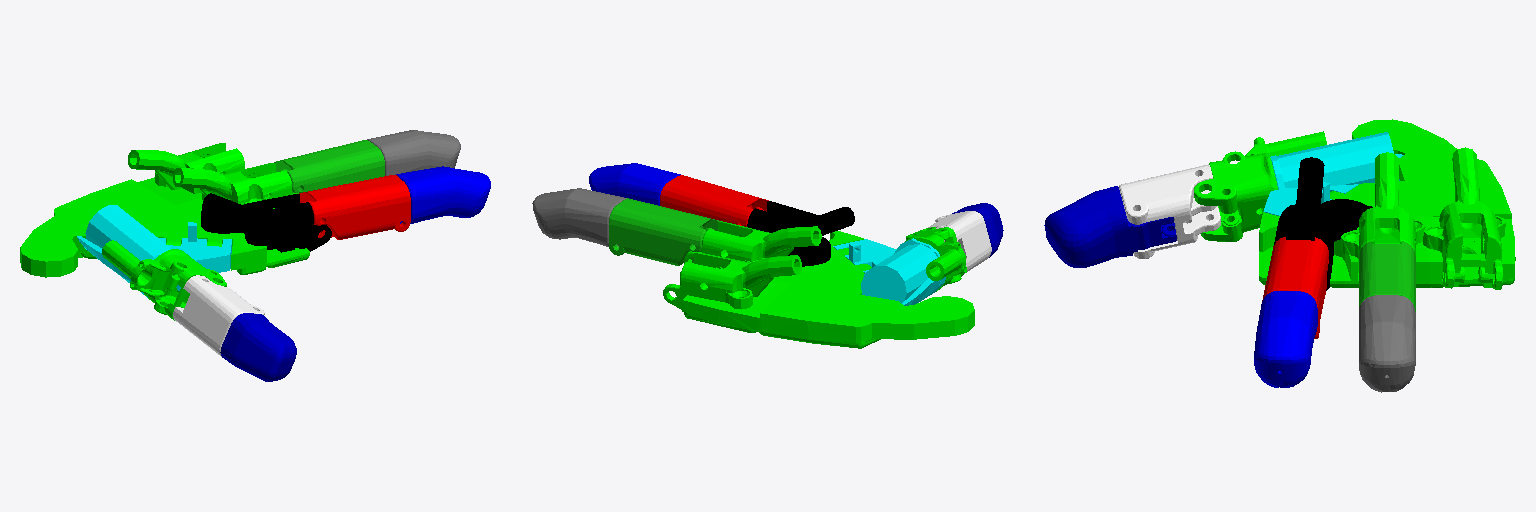
robot.urdf — SIM_LEFT_HAND:
<robot name="SIM_LEFT_HAND">
  <link name="l_hand_palm_link">
    <inertial>
      <origin xyz="-0.0278032 0.00764863 0.0027950400000000004" rpy="0 0 0"/>
      <mass value="0.100139"/>
      <inertia ixx="0.01" ixy="2.94756e-06" ixz="-1.5326e-06" iyy="0.01" iyz="-6.15953e-07" izz="0.01"/>
    </inertial>
    <visual>
      <origin xyz="0 0 0" rpy="0 0 0"/>
      <geometry>
        <mesh filename="package://iCub/meshes/simmechanics/sim_l_hand_palm_naked_prt.stl" scale="0.001 0.001 0.001"/>
      </geometry>
      <material name="green">
        <color rgba="0 1 0 1"/>
      </material>
    </visual>
    <collision>
      <origin xyz="0 0 0" rpy="0 0 0"/>
      <geometry>
        <mesh filename="package://iCub/meshes/simmechanics/sim_l_hand_palm_naked_prt.stl" scale="0.001 0.001 0.001"/>
      </geometry>
    </collision>
  </link>
  <link name="l_hand_index_proximal_link">
    <inertial>
      <origin xyz="0.012172107129987671 0.0067511216637091715 -0.0021994200000000005" rpy="0 0 0"/>
      <mass value="0.010775"/>
      <inertia ixx="0.01" ixy="-3.20758e-07" ixz="-2.34042e-07" iyy="0.01" iyz="1.2798e-08" izz="0.01"/>
    </inertial>
    <visual>
      <origin xyz="0.005713421930986794 0.009192523067064836 0.006999999999999998" rpy="0 0 0"/>
      <geometry>
        <mesh filename="package://iCub/meshes/simmechanics/sim_l_hand_metacarpus_index_prt.stl" scale="0.001 0.001 0.001"/>
      </geometry>
      <material name="black">
        <color rgba="0 0 0 1"/>
      </material>
    </visual>
    <collision>
      <origin xyz="0.005713421930986794 0.009192523067064836 0.006999999999999998" rpy="0 0 0"/>
      <geometry>
        <mesh filename="package://iCub/meshes/simmechanics/sim_l_hand_metacarpus_index_prt.stl" scale="0.001 0.001 0.001"/>
      </geometry>
    </collision>
  </link>
  <joint name="l_hand_index_adduction_joint" type="revolute">
    <origin xyz="-0.0196675 -0.0127212 0.006" rpy="3.141592653589793 0 -0.08726640667046762"/>
    <axis xyz="0.0 0.0 0.9999999999999998"/>
    <parent link="l_hand_palm_link"/>
    <child link="l_hand_index_proximal_link"/>
    <limit effort="50000" lower="0.0" upper="0.17453292519943295" velocity="50000"/>
    <dynamics damping="1.0"/>
  </joint>
  <link name="l_hand_index_medial_link">
    <inertial>
      <origin xyz="0.014692614581719034 0 -0.004197619999999999" rpy="0 0 0"/>
      <mass value="0.0132526"/>
      <inertia ixx="0.01" ixy="0.0" ixz="-1.03507e-08" iyy="0.01" iyz="0.0" izz="0.01"/>
    </inertial>
    <visual>
      <origin xyz="-0.003250012270626084 0 0.004499999999999999" rpy="0 0 0"/>
      <geometry>
        <mesh filename="package://iCub/meshes/simmechanics/sim_l_hand_prox_index_finger_prt.stl" scale="0.001 0.001 0.001"/>
      </geometry>
      <material name="red">
        <color rgba="1 0 0 1"/>
      </material>
    </visual>
    <collision>
      <origin xyz="-0.003250012270626084 0 0.004499999999999999" rpy="0 0 0"/>
      <geometry>
        <mesh filename="package://iCub/meshes/simmechanics/sim_l_hand_prox_index_finger_prt.stl" scale="0.001 0.001 0.001"/>
      </geometry>
    </collision>
  </link>
  <joint name="l_hand_index_proximal_joint" type="revolute">
    <origin xyz="0.030713454915364542 0.009192528035413853 0.002499999999999999" rpy="0 0 0"/>
    <axis xyz="-1.2968763118959004e-08 -1.0000002970337007 0.0"/>
    <parent link="l_hand_index_proximal_link"/>
    <child link="l_hand_index_medial_link"/>
    <limit effort="50000" lower="0.0" upper="1.6580627893946132" velocity="50000"/>
    <dynamics damping="1.0"/>
  </joint>
  <link name="l_hand_index_fingertip_link">
    <inertial>
      <origin xyz="0.013719205060423664 0 -0.0044794399999999995" rpy="0 0 0"/>
      <mass value="0.0137754"/>
      <inertia ixx="0.01" ixy="0.0" ixz="-3.80288e-08" iyy="0.01" iyz="0.0" izz="0.01"/>
    </inertial>
    <visual>
      <origin xyz="-0.0030000187014437435 0 0.002999999999999999" rpy="0 0 0"/>
      <geometry>
        <mesh filename="package://iCub/meshes/simmechanics/sim_l_hand_distal_index_finger_prt.stl" scale="0.001 0.001 0.001"/>
      </geometry>
      <material name="blue">
        <color rgba="0 0 1 1"/>
      </material>
    </visual>
    <collision>
      <origin xyz="-0.0030000187014437435 0 0.002999999999999999" rpy="0 0 0"/>
      <geometry>
        <mesh filename="package://iCub/meshes/simmechanics/sim_l_hand_distal_index_finger_prt.stl" scale="0.001 0.001 0.001"/>
      </geometry>
    </collision>
  </link>
  <joint name="l_hand_index_distal_joint" type="revolute">
    <origin xyz="0.0299999616287908 0 0.0014999999999999996" rpy="0 0 0"/>
    <axis xyz="-1.2968763118959004e-08 -1.0000002970337007 0.0"/>
    <parent link="l_hand_index_medial_link"/>
    <child link="l_hand_index_fingertip_link"/>
    <limit effort="50000" lower="0.0" upper="1.837831702350029" velocity="50000"/>
    <dynamics damping="1.0"/>
  </joint>
  <link name="l_hand_pinky_medial_link">
    <inertial>
      <origin xyz="0.01469267278579065 0.008000003136943656 -0.004197623188803215" rpy="0 0 0"/>
      <mass value="0.0132526"/>
      <inertia ixx="0.01" ixy="0.0" ixz="-1.03507e-08" iyy="0.01" iyz="0.0" izz="0.01"/>
    </inertial>
    <visual>
      <origin xyz="-0.003250002030506476 0.007999989759661787 0.0045000028011113824" rpy="0 0 0"/>
      <geometry>
        <mesh filename="package://iCub/meshes/simmechanics/sim_l_hand_prox_little_finger_prt.stl" scale="0.001 0.001 0.001"/>
      </geometry>
      <material name="yellow">
        <color rgba="1 1 0 1"/>
      </material>
    </visual>
    <collision>
      <origin xyz="-0.003250002030506476 0.007999989759661787 0.0045000028011113824" rpy="0 0 0"/>
      <geometry>
        <mesh filename="package://iCub/meshes/simmechanics/sim_l_hand_prox_little_finger_prt.stl" scale="0.001 0.001 0.001"/>
      </geometry>
    </collision>
  </link>
  <joint name="l_hand_pinky_proximal_joint" type="revolute">
    <origin xyz="0.00924221 0.0323841 0.00310435" rpy="3.071779488995382 0 0.0872664183029469"/>
    <axis xyz="-1.0351589968090255e-08 -0.9999999809599038 3.313676352756367e-08"/>
    <parent link="l_hand_palm_link"/>
    <child link="l_hand_pinky_medial_link"/>
    <limit effort="50000" lower="0.0" upper="1.6580627893946132" velocity="50000"/>
    <dynamics damping="1.0"/>
  </joint>
  <link name="l_hand_pinky_fingertip_link">
    <inertial>
      <origin xyz="0.013719240146803653 0 -0.004479442286172338" rpy="0 0 0"/>
      <mass value="0.0137754"/>
      <inertia ixx="0.01" ixy="0.0" ixz="-3.80288e-08" iyy="0.01" iyz="0.0" izz="0.01"/>
    </inertial>
    <visual>
      <origin xyz="-0.002999951594893295 0 0.002999995327181709" rpy="0 0 0"/>
      <geometry>
        <mesh filename="package://iCub/meshes/simmechanics/sim_l_hand_distal_little_finger_prt.stl" scale="0.001 0.001 0.001"/>
      </geometry>
      <material name="pink">
        <color rgba="1 0 1 1"/>
      </material>
    </visual>
    <collision>
      <origin xyz="-0.002999951594893295 0 0.002999995327181709" rpy="0 0 0"/>
      <geometry>
        <mesh filename="package://iCub/meshes/simmechanics/sim_l_hand_distal_little_finger_prt.stl" scale="0.001 0.001 0.001"/>
      </geometry>
    </collision>
  </link>
  <joint name="l_hand_pinky_distal_joint" type="revolute">
    <origin xyz="0.029999983211558306 0.007999988365394325 0.0015000049599501373" rpy="0 0 0"/>
    <axis xyz="-1.0351589968090255e-08 -0.9999999809599038 3.313676352756367e-08"/>
    <parent link="l_hand_pinky_medial_link"/>
    <child link="l_hand_pinky_fingertip_link"/>
    <limit effort="50000" lower="0.0" upper="1.837831702350029" velocity="50000"/>
    <dynamics damping="1.0"/>
  </joint>
  <link name="l_hand_metacarpus_link">
    <inertial>
      <origin xyz="0.0413926 -0.035191799999999995 0.00141728" rpy="0 0 0"/>
      <mass value="0.0302711"/>
      <inertia ixx="0.01" ixy="1.11095e-06" ixz="1.55542e-07" iyy="0.01" iyz="-4.24412e-07" izz="0.01"/>
    </inertial>
    <visual>
      <origin xyz="0.09315509999999994 -0.018762900000000145 -0.0029999999999999953" rpy="0 0 0"/>
      <geometry>
        <mesh filename="package://iCub/meshes/simmechanics/sim_l_hand_palm_adduction_prt.stl" scale="0.001 0.001 0.001"/>
      </geometry>
      <material name="cyan">
        <color rgba="0 1 1 1"/>
      </material>
    </visual>
    <collision>
      <origin xyz="0.09315509999999994 -0.018762900000000145 -0.0029999999999999953" rpy="0 0 0"/>
      <geometry>
        <mesh filename="package://iCub/meshes/simmechanics/sim_l_hand_palm_adduction_prt.stl" scale="0.001 0.001 0.001"/>
      </geometry>
    </collision>
  </link>
  <joint name="l_hand_metacarpus_joint" type="revolute">
    <origin xyz="-0.0931551 0.0187629 0.003" rpy="0 0 0"/>
    <axis xyz="0.838671 -0.544639 0.0"/>
    <parent link="l_hand_palm_link"/>
    <child link="l_hand_metacarpus_link"/>
    <limit effort="50000" lower="0.0" upper="1.3962634015954636" velocity="50000"/>
    <dynamics damping="1.0"/>
  </joint>
  <link name="l_hand_thumb_proximal_link">
    <inertial>
      <origin xyz="0.007942237973736326 -5.9058138708734456e-05 -0.001045447354816556" rpy="0 0 0"/>
      <mass value="0.00972892"/>
      <inertia ixx="7.30894e-07" ixy="-1.72738e-09" ixz="-2.79201e-07" iyy="1.01435e-06" iyz="6.0045e-10" izz="8.85583e-07"/>
    </inertial>
    <visual>
      <origin xyz="0.002000001152487 0 0.008000024128725032" rpy="0 0 0"/>
      <geometry>
        <mesh filename="package://iCub/meshes/simmechanics/sim_l_hand_metacarpus_thumb_prt.stl" scale="0.001 0.001 0.001"/>
      </geometry>
      <material name="green">
        <color rgba="0 1 0 1"/>
      </material>
    </visual>
    <collision>
      <origin xyz="0.002000001152487 0 0.008000024128725032" rpy="0 0 0"/>
      <geometry>
        <mesh filename="package://iCub/meshes/simmechanics/sim_l_hand_metacarpus_thumb_prt.stl" scale="0.001 0.001 0.001"/>
      </geometry>
    </collision>
  </link>
  <joint name="l_hand_thumb_rotation_joint" type="revolute">
    <origin xyz="0.04079150000000001 -0.048141699999999996 -4.558000000000036e-05" rpy="-1.9198619241239645 0.17453290528623008 -1.4311699319115785"/>
    <axis xyz="1.0000003237804127 -2.554693537271113e-07 6.571824259088421e-08"/>
    <parent link="l_hand_metacarpus_link"/>
    <child link="l_hand_thumb_proximal_link"/>
    <limit effort="50000" lower="-1.2217304763960306" upper="0.0" velocity="50000"/>
    <dynamics damping="1.0"/>
  </joint>
  <link name="l_hand_thumb_medial_link">
    <inertial>
      <origin xyz="0.009644287345556363 1.4222829970995943e-05 -0.0047316267826139" rpy="0 0 0"/>
      <mass value="0.00963921"/>
      <inertia ixx="0.01" ixy="1.25397e-09" ixz="-1.8712e-08" iyy="0.01" iyz="2.42496e-10" izz="0.01"/>
    </inertial>
    <visual>
      <origin xyz="-0.0029999603842260775 0 0.004499998155619252" rpy="0 0 0"/>
      <geometry>
        <mesh filename="package://iCub/meshes/simmechanics/sim_l_hand_proximal_thumb_prt.stl" scale="0.001 0.001 0.001"/>
      </geometry>
      <material name="white">
        <color rgba="1 1 1 1"/>
      </material>
    </visual>
    <collision>
      <origin xyz="-0.0029999603842260775 0 0.004499998155619252" rpy="0 0 0"/>
      <geometry>
        <mesh filename="package://iCub/meshes/simmechanics/sim_l_hand_proximal_thumb_prt.stl" scale="0.001 0.001 0.001"/>
      </geometry>
    </collision>
  </link>
  <joint name="l_hand_thumb_proximal_joint" type="revolute">
    <origin xyz="0.021999958515447667 0 0.003500025233931968" rpy="0 0 0"/>
    <axis xyz="2.628557915773655e-08 -1.0000002854169352 -2.1835508223766453e-07"/>
    <parent link="l_hand_thumb_proximal_link"/>
    <child link="l_hand_thumb_medial_link"/>
    <limit effort="50000" lower="0.0" upper="1.4835298641951802" velocity="50000"/>
    <dynamics damping="1.0"/>
  </joint>
  <link name="l_hand_thumb_fingertip_link">
    <inertial>
      <origin xyz="0.010517869126825605 8.912381595133773e-06 -0.003989284736807201" rpy="0 0 0"/>
      <mass value="0.0169365"/>
      <inertia ixx="0.01" ixy="1.68813e-09" ixz="-2.86966e-08" iyy="0.01" iyz="-1.92473e-09" izz="0.01"/>
    </inertial>
    <visual>
      <origin xyz="-0.0029999461796957824 0 0.0030000193982093193" rpy="0 0 0"/>
      <geometry>
        <mesh filename="package://iCub/meshes/simmechanics/sim_l_hand_distal_thumb_prt.stl" scale="0.001 0.001 0.001"/>
      </geometry>
      <material name="dblue">
        <color rgba="0 0 0.8 1"/>
      </material>
    </visual>
    <collision>
      <origin xyz="-0.0029999461796957824 0 0.0030000193982093193" rpy="0 0 0"/>
      <geometry>
        <mesh filename="package://iCub/meshes/simmechanics/sim_l_hand_distal_thumb_prt.stl" scale="0.001 0.001 0.001"/>
      </geometry>
    </collision>
  </link>
  <joint name="l_hand_thumb_distal_joint" type="revolute">
    <origin xyz="0.020000016253208942 0 0.001499998093791144" rpy="0 0 0"/>
    <axis xyz="2.628557915773655e-08 -1.0000002854169352 -2.1835508223766453e-07"/>
    <parent link="l_hand_thumb_medial_link"/>
    <child link="l_hand_thumb_fingertip_link"/>
    <limit effort="50000" lower="0.0" upper="0.9599310885968813" velocity="50000"/>
    <dynamics damping="1.0"/>
  </joint>
  <link name="l_hand_medium_medial_link">
    <inertial>
      <origin xyz="0.0146927 0.007999999999999997 -0.004197619999999999" rpy="0 0 0"/>
      <mass value="0.0132526"/>
      <inertia ixx="0.01" ixy="0.0" ixz="-1.03507e-08" iyy="0.01" iyz="0.0" izz="0.01"/>
    </inertial>
    <visual>
      <origin xyz="-0.0032499999999999994 0.007999999999999997 0.004499999999999999" rpy="0 0 0"/>
      <geometry>
        <mesh filename="package://iCub/meshes/simmechanics/sim_l_hand_prox_medium_finger_prt.stl" scale="0.001 0.001 0.001"/>
      </geometry>
      <material name="dgreen">
        <color rgba="0.1 0.8 0.1 1"/>
      </material>
    </visual>
    <collision>
      <origin xyz="-0.0032499999999999994 0.007999999999999997 0.004499999999999999" rpy="0 0 0"/>
      <geometry>
        <mesh filename="package://iCub/meshes/simmechanics/sim_l_hand_prox_medium_finger_prt.stl" scale="0.001 0.001 0.001"/>
      </geometry>
    </collision>
  </link>
  <joint name="l_hand_medium_proximal_joint" type="revolute">
    <origin xyz="0.015 0.008 0.0045000000000000005" rpy="3.141592653589793 0 0"/>
    <axis xyz="0.0 -0.9999999999999996 0.0"/>
    <parent link="l_hand_palm_link"/>
    <child link="l_hand_medium_medial_link"/>
    <limit effort="50000" lower="0.0" upper="1.6580627893946132" velocity="50000"/>
    <dynamics damping="1.0"/>
  </joint>
  <link name="l_hand_medium_fingertip_link">
    <inertial>
      <origin xyz="0.0137192 0 -0.004479439999999998" rpy="0 0 0"/>
      <mass value="0.0137754"/>
      <inertia ixx="0.01" ixy="0.0" ixz="-3.80288e-08" iyy="0.01" iyz="0.0" izz="0.01"/>
    </inertial>
    <visual>
      <origin xyz="-0.0029999999999999957 0 0.0029999999999999988" rpy="0 0 0"/>
      <geometry>
        <mesh filename="package://iCub/meshes/simmechanics/sim_l_hand_distal_medium_finger_prt.stl" scale="0.001 0.001 0.001"/>
      </geometry>
      <material name="gray">
        <color rgba="0.5 0.5 0.5 1"/>
      </material>
    </visual>
    <collision>
      <origin xyz="-0.0029999999999999957 0 0.0029999999999999988" rpy="0 0 0"/>
      <geometry>
        <mesh filename="package://iCub/meshes/simmechanics/sim_l_hand_distal_medium_finger_prt.stl" scale="0.001 0.001 0.001"/>
      </geometry>
    </collision>
  </link>
  <joint name="l_hand_medium_distal_joint" type="revolute">
    <origin xyz="0.03 0.007999999999999997 0.0015" rpy="0 0 0"/>
    <axis xyz="0.0 -0.9999999999999996 0.0"/>
    <parent link="l_hand_medium_medial_link"/>
    <child link="l_hand_medium_fingertip_link"/>
    <limit effort="50000" lower="0.0" upper="1.837831702350029" velocity="50000"/>
    <dynamics damping="1.0"/>
  </joint>
  <gazebo> <plugin name="controlboard_left_hand_phys" filename="libgazebo_yarp_controlboard.so"> <yarpConfigurationFile>model://iCub/conf_left_hand_mk3/left_hand_phys.ini</yarpConfigurationFile> </plugin> <plugin name="controlboard_left_hand" filename="libgazebo_yarp_controlboard.so"> <yarpConfigurationFile>model://iCub/conf_left_hand_mk3/left_hand.ini</yarpConfigurationFile> </plugin> <plugin name="world_interface" filename="libgazebo_yarp_worldinterface.so"> <yarpConfigurationFile>model://iCub/conf_left_hand_mk3/worldInterface.ini</yarpConfigurationFile> </plugin> </gazebo>
  <gazebo>
    <pose>0.0 0.0 0.0 0.0 0.0 0.0</pose>
  </gazebo>
</robot>

--- Render facts (derived) ---
Views: 3 orthographic renders of the robot side by side, from view 1: azimuth 30°, elevation 25°; view 2: azimuth 150°, elevation 25°; view 3: azimuth 270°, elevation 25°.
Model SIM_LEFT_HAND with 12 links and 11 joints (11 revolute), rooted at l_hand_palm_link, posed all joints at 0.
Visible links, largest first — view 1: l_hand_palm_link, l_hand_index_proximal_link, l_hand_index_medial_link, l_hand_metacarpus_link, l_hand_thumb_proximal_link, l_hand_index_fingertip_link, l_hand_medium_medial_link, l_hand_thumb_fingertip_link, l_hand_thumb_medial_link, l_hand_medium_fingertip_link; view 2: l_hand_palm_link, l_hand_medium_medial_link, l_hand_metacarpus_link, l_hand_medium_fingertip_link, l_hand_index_medial_link, l_hand_index_proximal_link, l_hand_index_fingertip_link, l_hand_thumb_proximal_link, l_hand_thumb_medial_link, l_hand_thumb_fingertip_link; view 3: l_hand_palm_link, l_hand_thumb_fingertip_link, l_hand_thumb_proximal_link, l_hand_index_fingertip_link, l_hand_medium_fingertip_link, l_hand_thumb_medial_link, l_hand_metacarpus_link, l_hand_index_proximal_link, l_hand_index_medial_link, l_hand_medium_medial_link.
Link boxes in pixels (x1,y1,x2,y2): l_hand_palm_link: [20, 143, 309, 277]; l_hand_index_proximal_link: [201, 193, 331, 252]; l_hand_index_medial_link: [299, 175, 410, 239]; l_hand_metacarpus_link: [77, 205, 231, 297]; l_hand_thumb_proximal_link: [102, 240, 226, 320]; l_hand_index_fingertip_link: [396, 166, 490, 223]; l_hand_medium_medial_link: [274, 140, 384, 193]; l_hand_thumb_fingertip_link: [220, 313, 296, 381]; l_hand_thumb_medial_link: [173, 275, 264, 356]; l_hand_medium_fingertip_link: [367, 130, 460, 175]; l_hand_palm_link: [663, 221, 974, 348]; l_hand_medium_medial_link: [609, 198, 719, 265]; l_hand_metacarpus_link: [833, 238, 945, 305]; l_hand_medium_fingertip_link: [532, 188, 626, 246]; l_hand_index_medial_link: [660, 175, 768, 226]; l_hand_index_proximal_link: [747, 201, 854, 266]; l_hand_index_fingertip_link: [589, 163, 680, 205]; l_hand_thumb_proximal_link: [905, 227, 966, 291]; l_hand_thumb_medial_link: [928, 211, 991, 273]; l_hand_thumb_fingertip_link: [952, 203, 1003, 257]; l_hand_palm_link: [1259, 119, 1515, 289]; l_hand_thumb_fingertip_link: [1044, 186, 1176, 267]; l_hand_thumb_proximal_link: [1194, 131, 1326, 241]; l_hand_index_fingertip_link: [1254, 291, 1317, 387]; l_hand_medium_fingertip_link: [1359, 295, 1415, 392]; l_hand_thumb_medial_link: [1119, 164, 1220, 258]; l_hand_metacarpus_link: [1263, 132, 1403, 215]; l_hand_index_proximal_link: [1274, 157, 1372, 290]; l_hand_index_medial_link: [1262, 237, 1328, 338]; l_hand_medium_medial_link: [1359, 241, 1415, 311].
Bounding box of the posed robot: 0.1711 × 0.1327 × 0.0415 m (x, y, z).
Meshes: 12 distinct files referenced, 10 mesh visuals loaded (10 binary STL); not drawn: 2 (reference not matched to a file when rendering).
